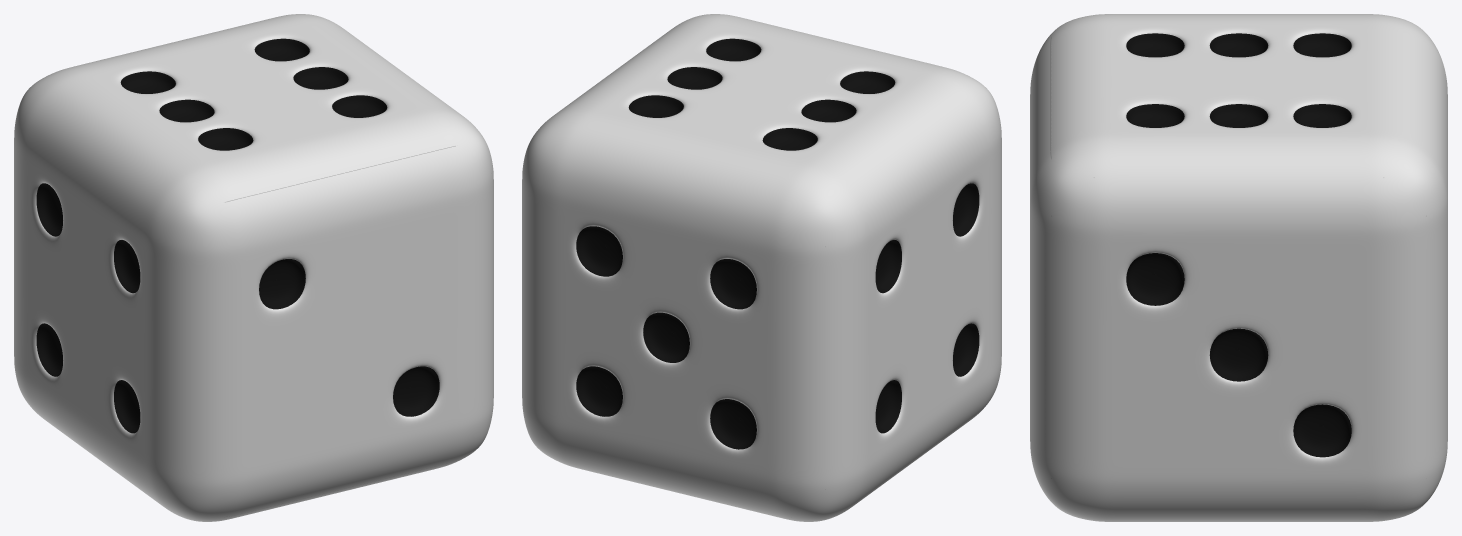
The model's file is Dice.fbx.
3 views of the same model, side by side, from view 1: azimuth 30°, elevation 25°; view 2: azimuth 150°, elevation 25°; view 3: azimuth 270°, elevation 25° (orthographic). The views are drawn at different scales.
Parts seen in each view (by area): view 1: Cube; view 2: Cube; view 3: Cube.
Boxes of the visible parts, x1,y1,x2,y2 form: Cube: (14,14,493,521); Cube: (522,14,1001,521); Cube: (1030,14,1447,521).
Bounding box in the file's own units: 200 × 200 × 200.
Materials: 2 (1 with a texture image).
